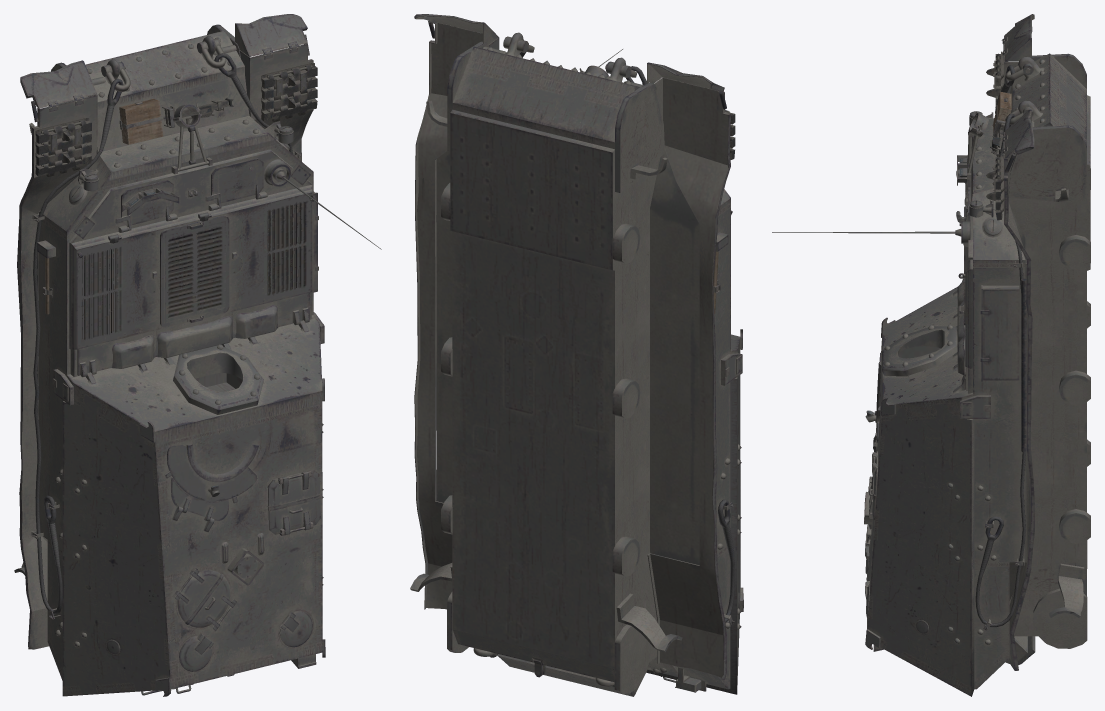
The model's file is Hull.glb.
3 renders of one model, left to right at view 1: azimuth 30°, elevation 25°; view 2: azimuth 150°, elevation 25°; view 3: azimuth 270°, elevation 25°, orthographic. The views are drawn at different scales.
Parts seen in each view (by area): view 1: set_0_group_0; view 2: set_0_group_0; view 3: set_0_group_0.
Part boxes in pixels (bbox=[...]): set_0_group_0: bbox=[14, 14, 381, 696]; set_0_group_0: bbox=[410, 14, 743, 696]; set_0_group_0: bbox=[772, 14, 1090, 696].
Bounding box in the file's own units: 3.4 × 6.99 × 3.55.
Materials: 1 (1 with a texture image).
